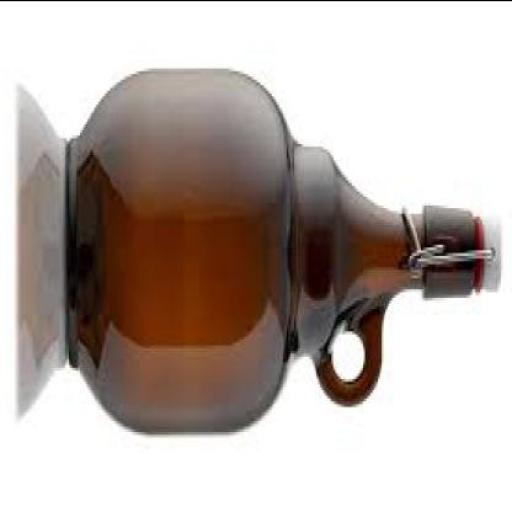glass: (67, 62, 477, 430)
metal: (410, 202, 496, 268)
plastic: (484, 213, 501, 285)
